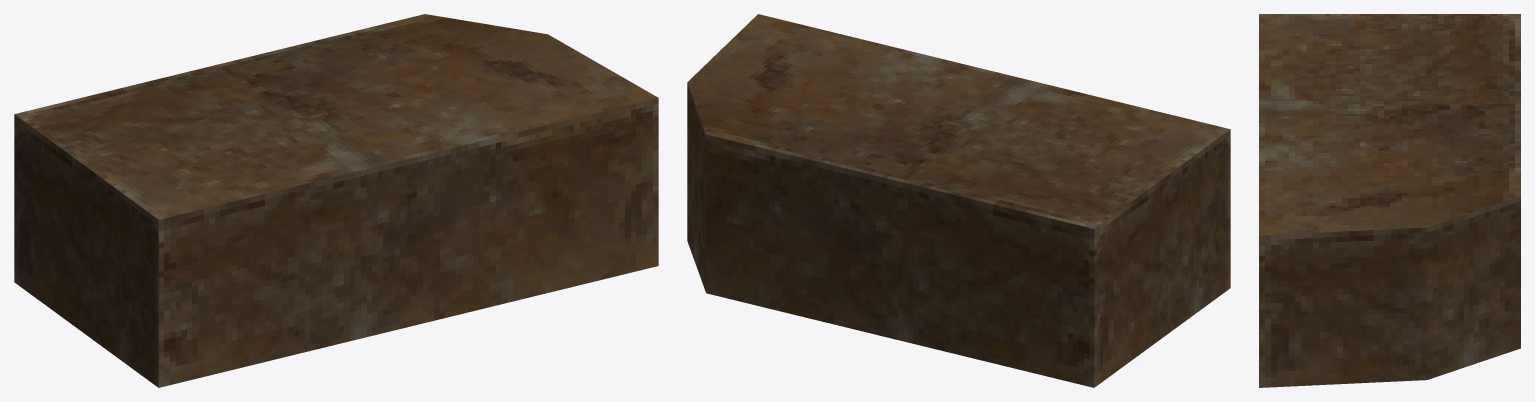
Rendered from brick_mx_1_0.glb.
3 views of the same model, side by side, from view 1: azimuth 30°, elevation 25°; view 2: azimuth 150°, elevation 25°; view 3: azimuth 270°, elevation 25° (orthographic). The views are drawn at different scales.
Visible parts, largest first — view 1: brick_mx_1_0; view 2: brick_mx_1_0; view 3: brick_mx_1_0.
Part boxes in pixels (<box>): brick_mx_1_0: <box>14,14,658,387</box>; brick_mx_1_0: <box>687,14,1230,387</box>; brick_mx_1_0: <box>1259,14,1520,387</box>.
Bounding box in the file's own units: 0.28 × 0.09 × 0.14.
Materials: 1 (1 with a texture image).
